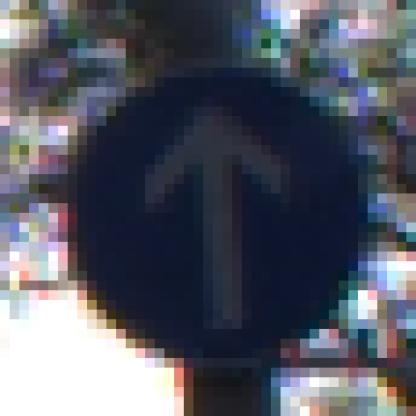AheadOnly: (49, 49, 369, 369)
